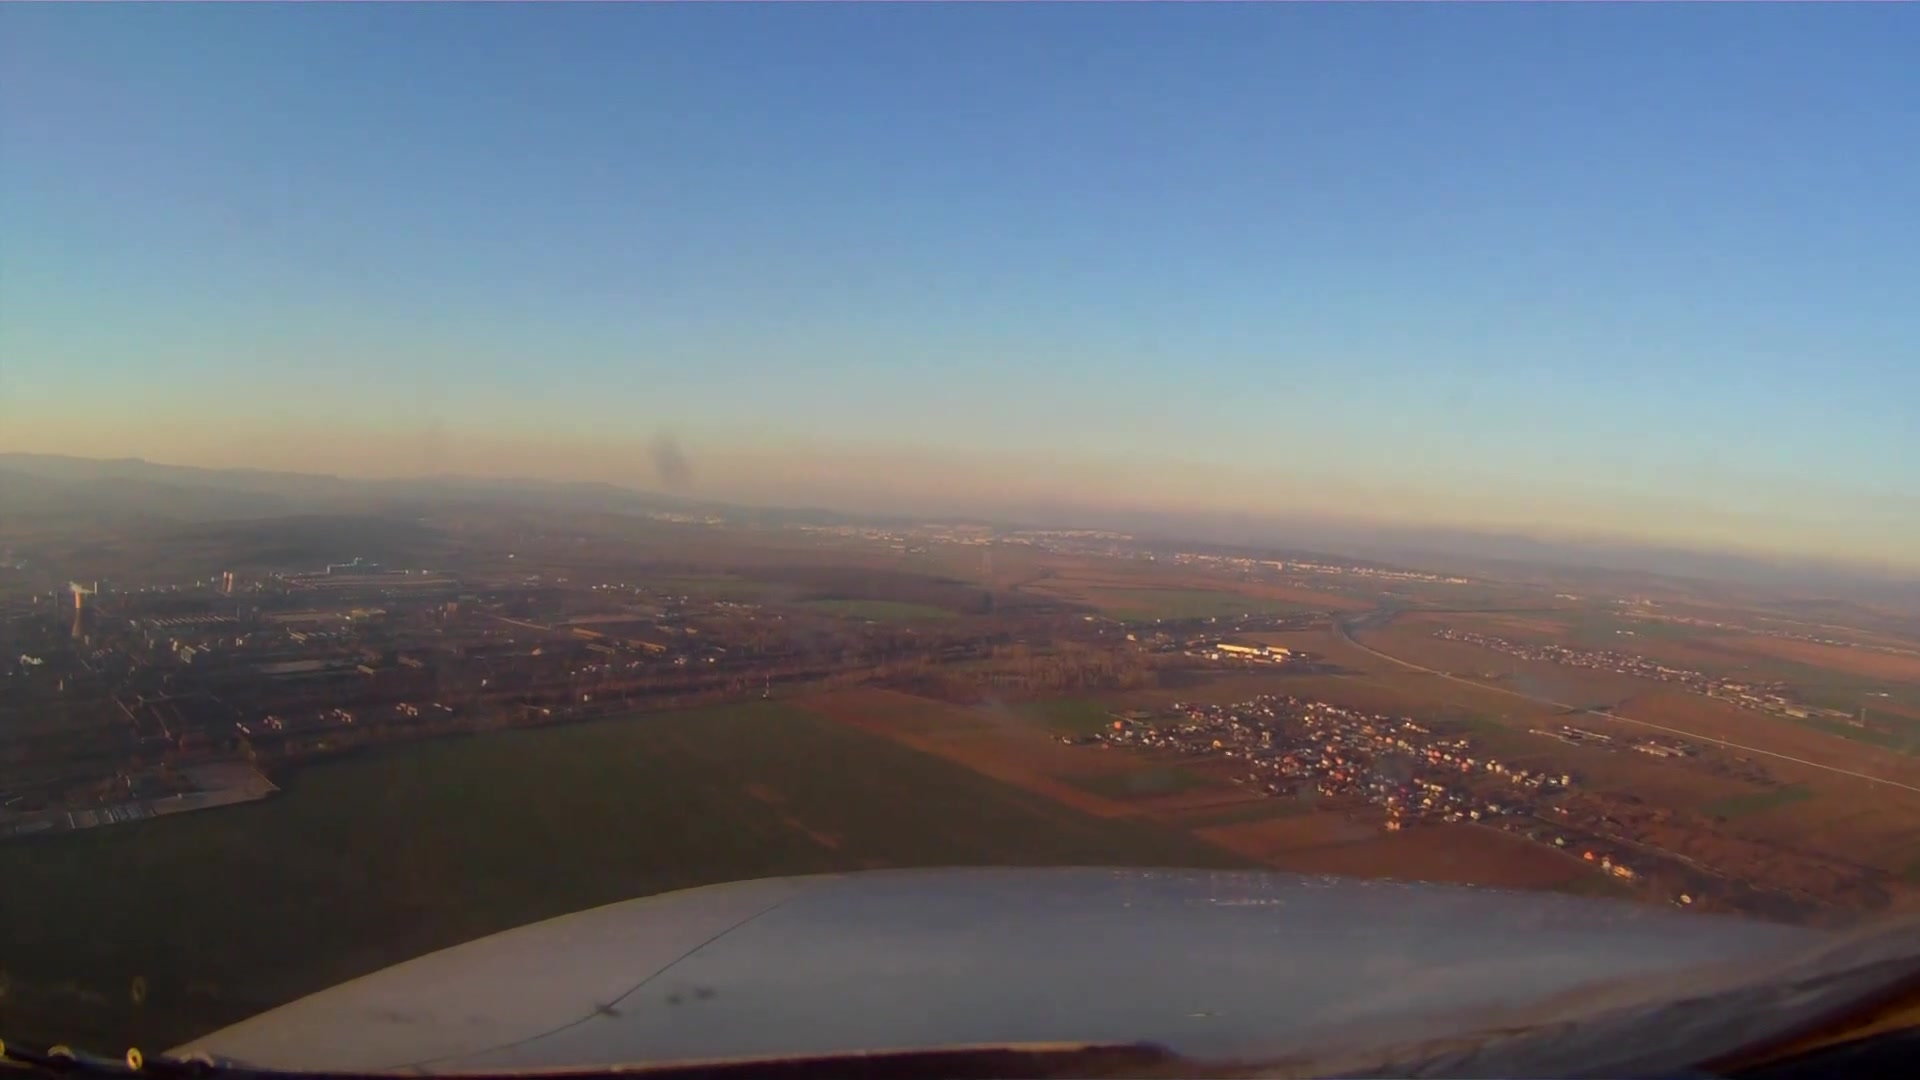runway: (980, 549, 992, 575)
